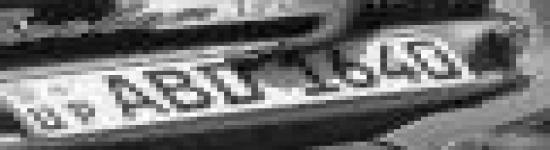0: (405, 34, 470, 84)
1: (267, 44, 347, 101)
4: (362, 35, 439, 98)
6: (322, 37, 391, 95)
A: (89, 71, 180, 126)
B: (140, 66, 221, 116)
D: (199, 53, 285, 111)
P: (65, 95, 109, 127)
U: (11, 102, 70, 136)
